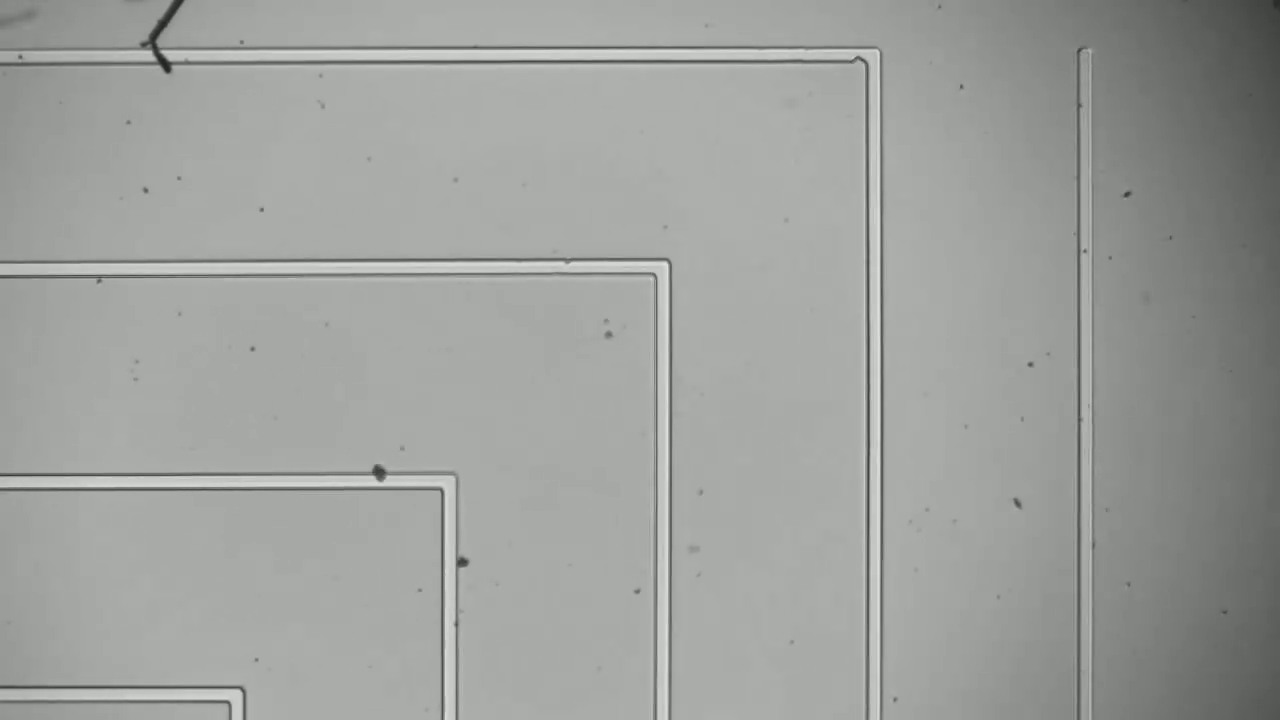edge_bite: (843, 41, 874, 67)
stains_enbedded: (367, 460, 397, 495)
